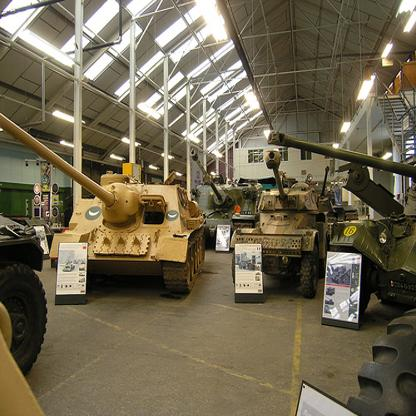Tank: (39, 144, 203, 311), (236, 145, 327, 303)
